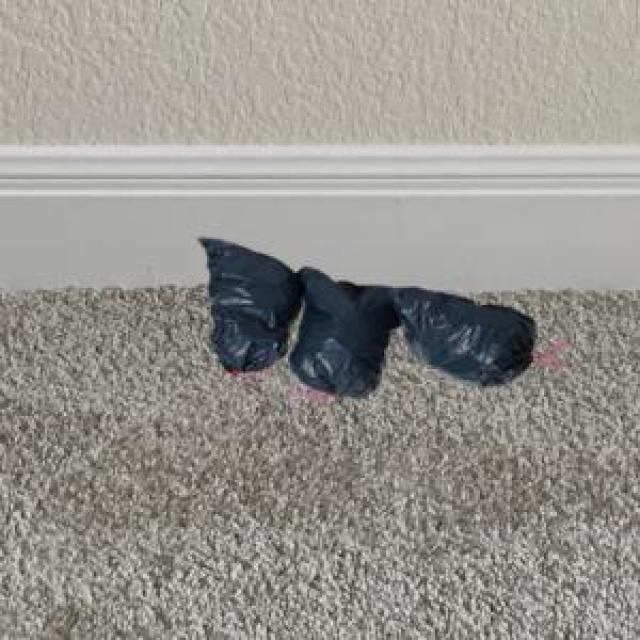waste: (200, 239, 535, 396)
